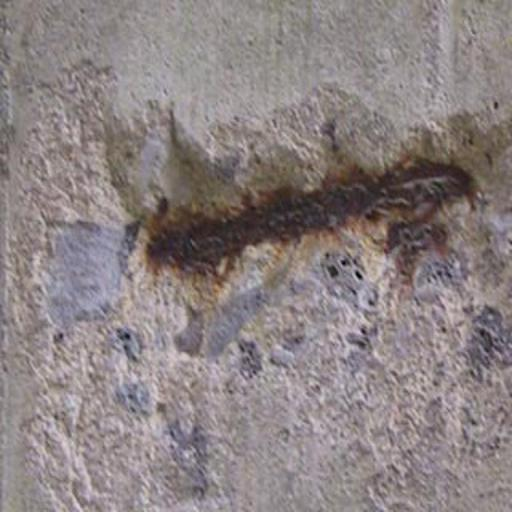spalling: (97, 121, 510, 336)
